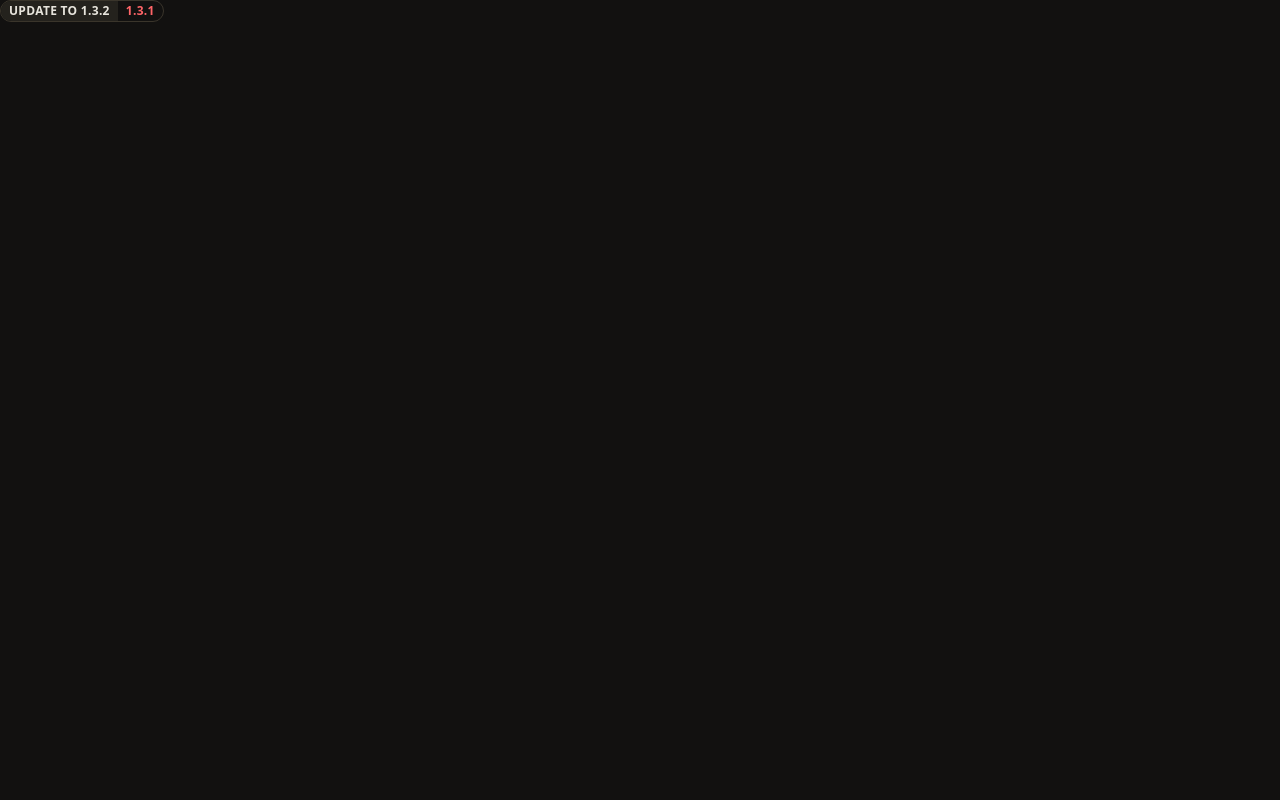
it: UpdateButton › shows a release's notes formatted, and the last update's line only while no newer one is offered
The image size is (1280, 800).
Click the button "Update to 1.3.2 1.3.1": (82, 11) x1=0 y1=0 x2=164 y2=22
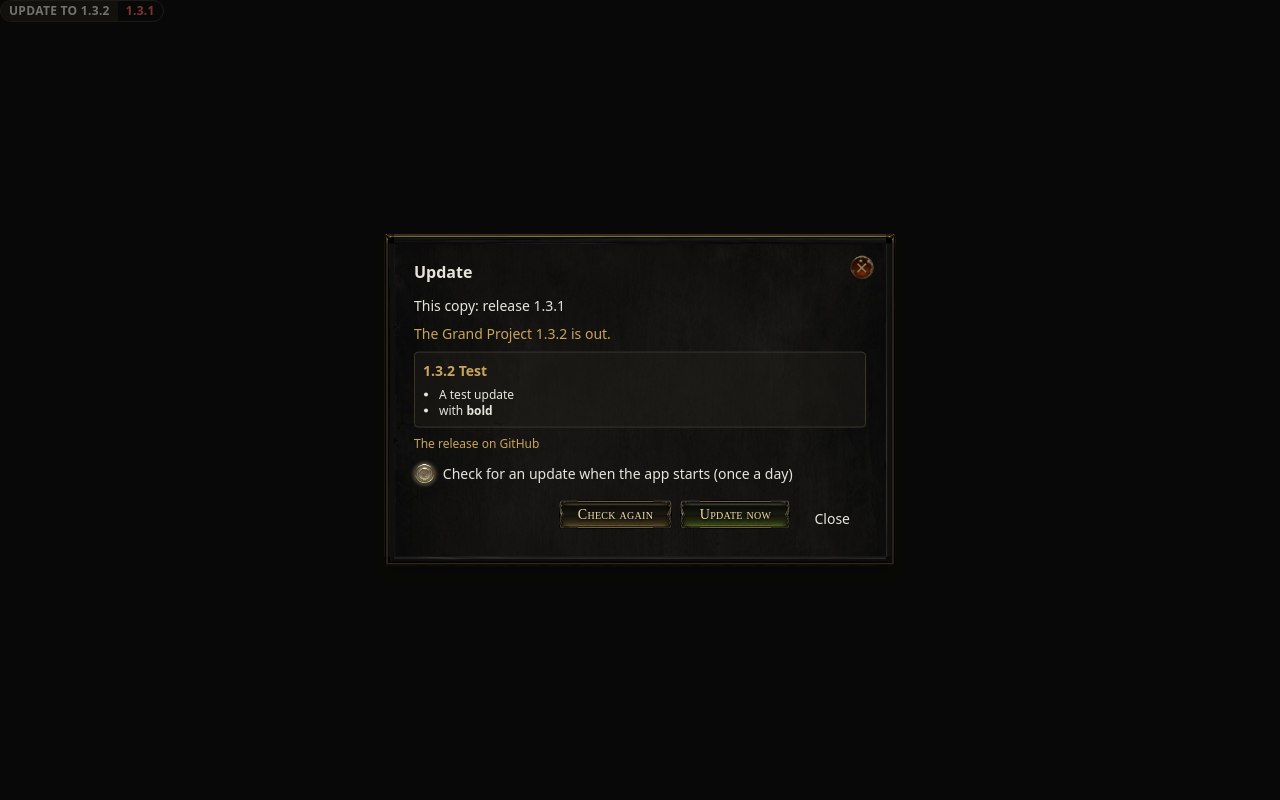
Now the heading "1.3.2 Test" is shown, box x1=423 y1=361 x2=487 y2=380
Now the number of list items is 2, box x1=439 y1=386 x2=514 y2=403; x1=439 y1=402 x2=493 y2=419
